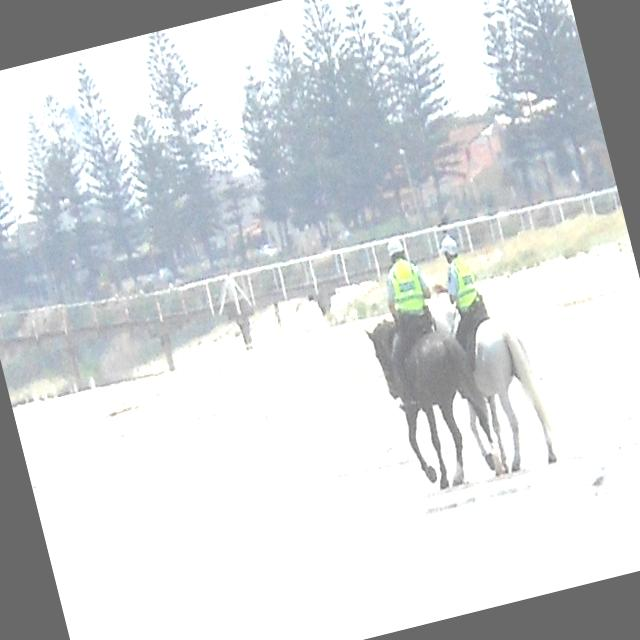Vehicle: (257, 240, 279, 258), (174, 276, 185, 286)
